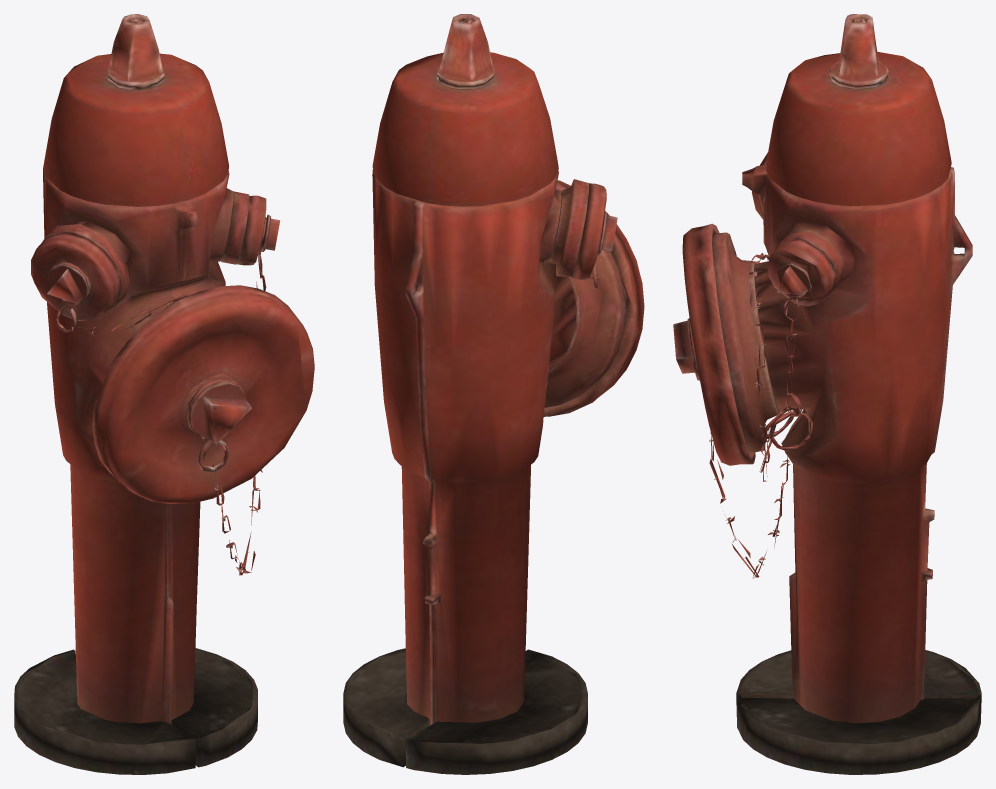
File: hydrant.03760266.glb
3 views of the same model, side by side, from view 1: azimuth 30°, elevation 25°; view 2: azimuth 150°, elevation 25°; view 3: azimuth 270°, elevation 25° (orthographic).
Visible parts, largest first — view 1: model; view 2: model; view 3: model.
Boxes of the visible parts, x1,y1,x2,y2 form: model: [14, 14, 314, 774]; model: [343, 14, 644, 774]; model: [673, 14, 981, 774].
Size of the model in its own units: 0.2745 by 0.7994 by 0.3173.
Materials: 1 (1 with a texture image).
